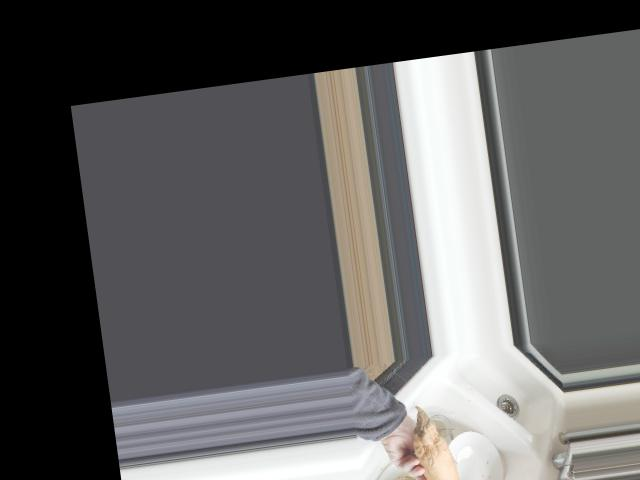sweet_potato: (408, 400, 464, 480)
